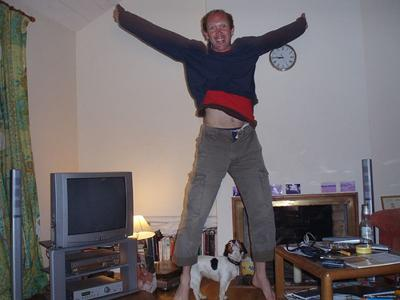person: (112, 4, 309, 299)
